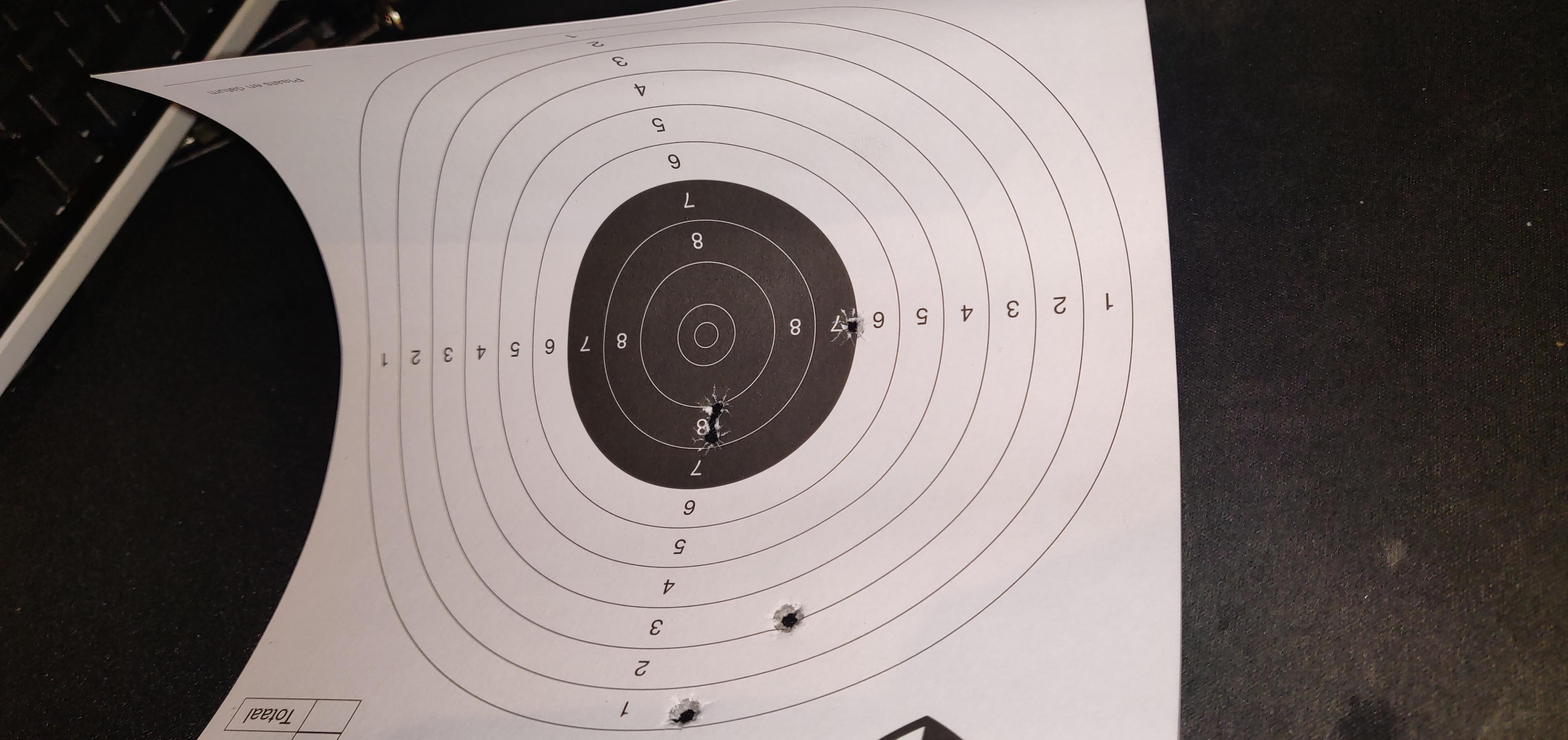hole: (18, 311, 100, 335), (833, 391, 920, 410), (680, 327, 753, 348), (219, 363, 299, 382), (606, 326, 680, 345)
